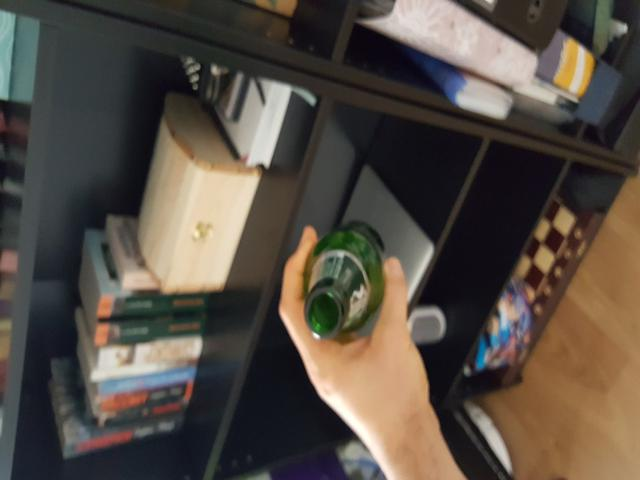beer: (305, 221, 389, 340)
